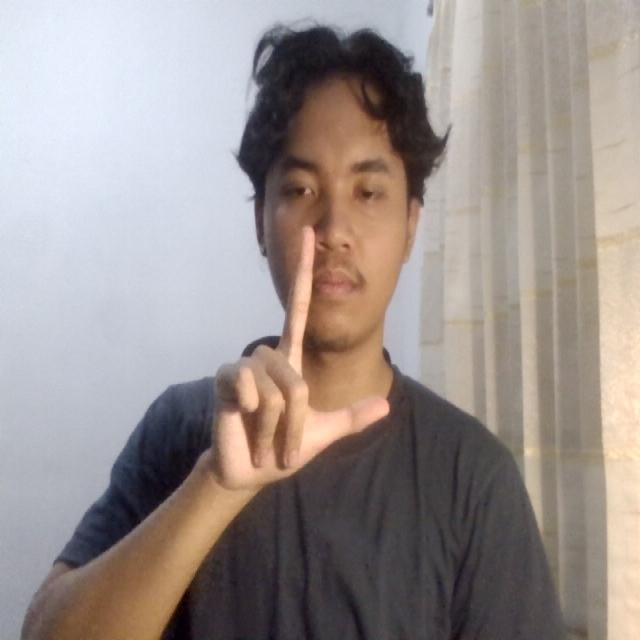I: (183, 217, 406, 511)
